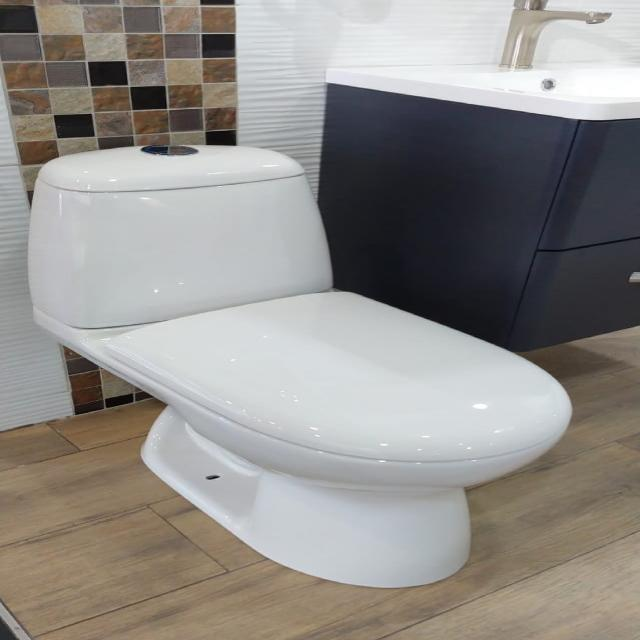toilet: (20, 137, 581, 591)
